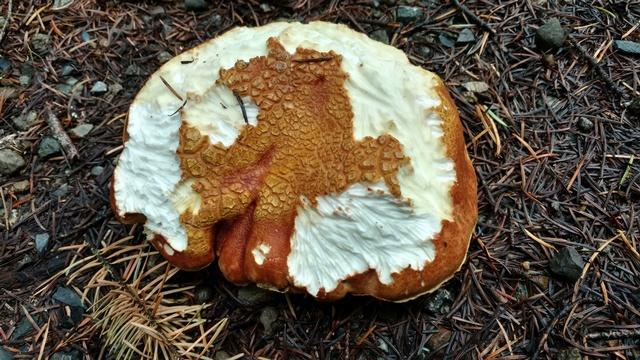edible_mushroom: (108, 19, 479, 303)
